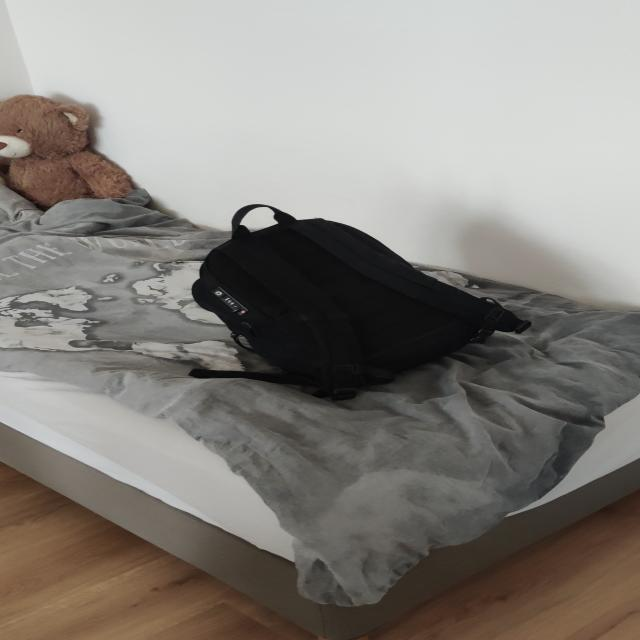backpack: (172, 206, 520, 399)
